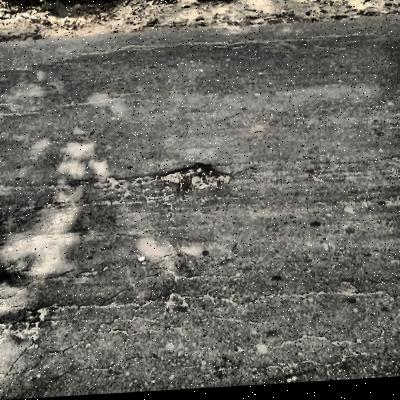pothole: (156, 162, 232, 197)
